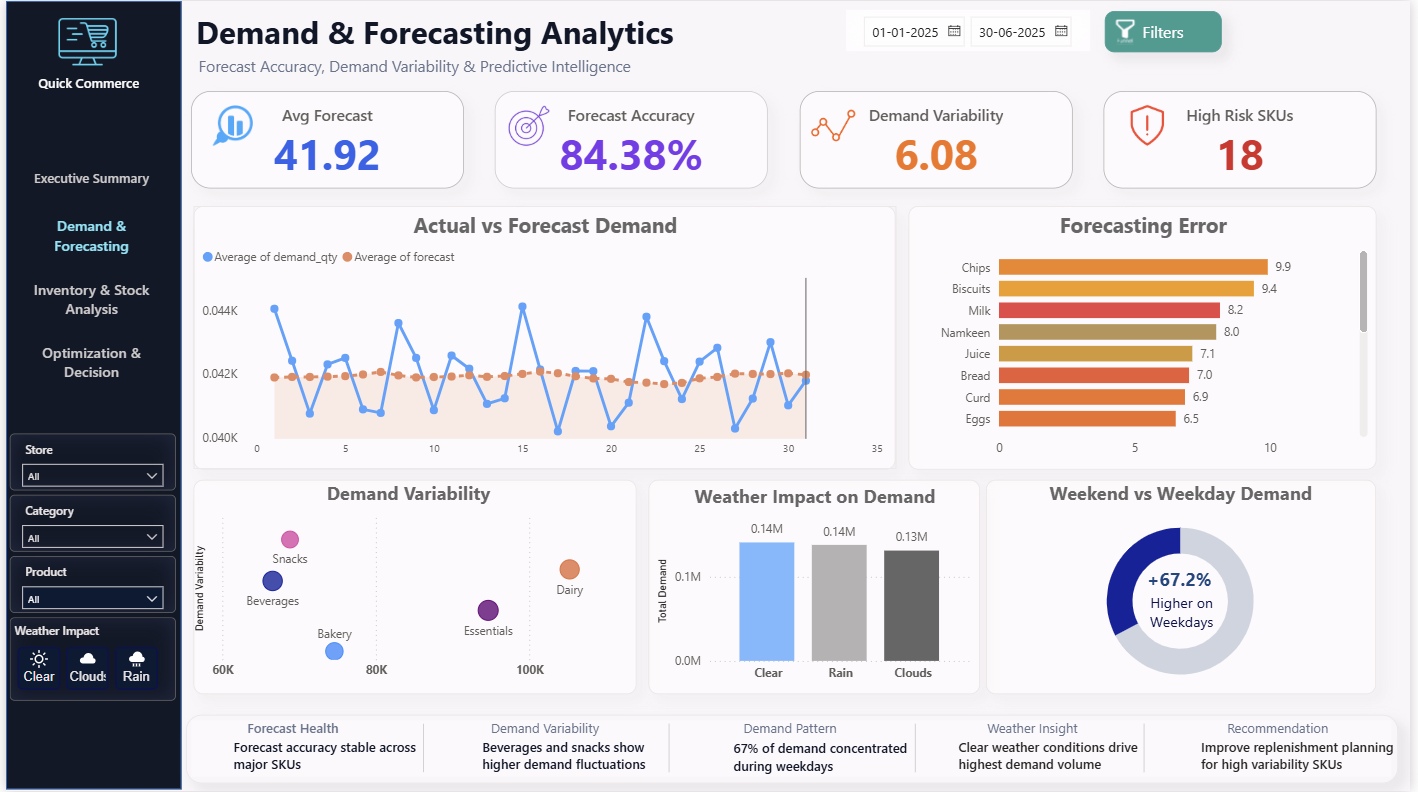

This screenshot's page, from the dashboard's own definition file:
{"tool":"powerbi","page":{"name":"Demand & forecasting Analysis","canvas":[1440,810],"ordinal":1},"visuals":[{"type":"shape","box":[0,0,180,808.6],"z":0},{"type":"textbox","box":[190,5.7,624.3,72.9],"z":1000,"group":"g1"},{"type":"cardVisual","fields":{"Data":["DAX Measures.Avg Forecast"]},"box":[190,92.9,280,100],"z":1000},{"type":"textbox","box":[192.9,50,532.9,33],"z":2000,"group":"g1"},{"type":"lineChart","title":"Actual vs Forecast Demand","fields":{"Y":["Avg(inventory_data.demand_qty)","Avg(inventory_data.forecast)"],"Category":["inventory_data.date.Variation.Date Hierarchy.Day"]},"box":[192.9,210,720,270],"z":2000},{"type":"clusteredBarChart","title":"Forecasting Error","fields":{"Y":["inventory_data.Forecast Error"],"Category":["inventory_data.product_name"]},"box":[925.7,210,480,270],"z":3000},{"type":"scatterChart","title":"Demand Variability","fields":{"X":["Sum(inventory_data.avg_demand)"],"Y":["Sum(inventory_data.std_demand)"],"Size":["Sum(inventory_data.gap)"],"Series":["inventory_data.category"]},"box":[192.9,491.4,454.3,220],"z":4000},{"type":"clusteredColumnChart","title":"Weather Impact on Demand ","fields":{"Y":["Sum(inventory_data.demand_qty)"],"Category":["inventory_data.weather_type"]},"box":[658.6,491.4,340,220],"z":5000},{"type":"cardVisual","fields":{"Data":["DAX Measures.Forecast Accuracy"]},"box":[501.9,92.9,280,100],"z":6000},{"type":"cardVisual","fields":{"Data":["DAX Measures.Avg Variability"]},"box":[813.8,92.9,280,100],"z":7000},{"type":"cardVisual","fields":{"Data":["DAX Measures.High Risk SKUs"]},"box":[1125.7,92.9,280,100],"z":8000},{"type":"donutChart","title":"Weekend vs Weekday Demand","fields":{"Y":["inventory_data.Weekday Demand","inventory_data.Weekend Demand"]},"box":[1005.7,491.4,400,220],"z":9000},{"type":"slicer","fields":{"Values":["inventory_data.date"]},"box":[861.7,9.5,250,42.2],"z":10000},{"type":"actionButton","box":[1127.2,10.9,119.8,42.2],"z":11000},{"type":"group","id":"g1","title":"Group 1","box":[190,5.7,624.3,77.3],"z":12000},{"type":"textbox","box":[1161.4,575.7,88.6,35.7],"z":13000},{"type":"textbox","box":[1162.1,601.6,88.6,57.1],"z":14000},{"type":"shape","box":[184.3,731.4,1242.9,70],"z":15000},{"type":"shape","box":[674,741.4,11.4,50],"z":16000},{"type":"shape","box":[926.6,741.4,11.4,50],"z":17000},{"type":"shape","box":[1161.4,741.4,11.4,50],"z":18000},{"type":"textbox","box":[242.9,731.4,130,30],"z":19000},{"type":"textbox","box":[492.3,731.4,155.7,30],"z":20000},{"type":"textbox","box":[750.9,731.4,160,30],"z":21000},{"type":"textbox","box":[1000.7,731.4,147.1,30],"z":22000},{"type":"textbox","box":[228.6,751.4,211.4,57.1],"z":23000},{"type":"textbox","box":[482.9,751.4,181.4,52.9],"z":24000},{"type":"textbox","box":[741.4,752.9,201.4,57.1],"z":25000},{"type":"textbox","box":[971.4,751.4,202.9,57.1],"z":26000},{"type":"textbox","box":[1247.1,731.4,125.7,30],"z":27000},{"type":"textbox","box":[1220,751.4,220,57.1],"z":28000},{"type":"shape","box":[421.4,741.4,12.9,50],"z":29000},{"type":"actionButton","box":[13.5,160.4,150,40],"z":30000},{"type":"actionButton","box":[13.5,212.8,150,54.3],"z":31000},{"type":"actionButton","box":[13.5,279.5,150,51.4],"z":32000},{"type":"actionButton","box":[12.9,343.3,150,52.9],"z":33000},{"type":"actionButton","box":[51.4,14.3,64.3,54.3],"z":34000},{"type":"actionButton","box":[27.1,68.6,115.7,30],"z":35000},{"type":"slicer","fields":{"Values":["inventory_data.category"]},"box":[4,506.4,170,58.4],"z":36000},{"type":"slicer","fields":{"Values":["inventory_data.store_id"]},"box":[4,443.8,170,58.4],"z":37000},{"type":"slicer","fields":{"Values":["inventory_data.product_name"]},"box":[4,568.9,170,58.4],"z":38000},{"type":"ChicletSlicer1448559807354","title":"Weather Impact","fields":{"Category":["inventory_data.weather_type"],"Image":["inventory_data.Weather SVG"]},"box":[4,631.4,170,85.7],"z":39000},{"type":"image","box":[210,105.7,45,45],"z":40000},{"type":"image","box":[514.3,105.7,45,45],"z":41000},{"type":"image","box":[825.7,105.7,45.7,44.3],"z":42000},{"type":"image","box":[1148.6,105.7,45,45],"z":43000}]}

Visuals, with their boxes on the page's 1440x810 design canvas (x1, y1, x2, y2). These are canvas units, not pixel positions in the 1418x792 screenshot, which may show the page scaled, cropped or inside an application window:
shape: l=0, t=0, r=180, b=809
textbox: l=190, t=6, r=814, b=79
cardVisual - DAX Measures.Avg Forecast: l=190, t=93, r=470, b=193
textbox: l=193, t=50, r=726, b=83
"Actual vs Forecast Demand" lineChart: l=193, t=210, r=913, b=480
"Forecasting Error" clusteredBarChart: l=926, t=210, r=1406, b=480
"Demand Variability" scatterChart: l=193, t=491, r=647, b=711
"Weather Impact on Demand " clusteredColumnChart: l=659, t=491, r=999, b=711
cardVisual - DAX Measures.Forecast Accuracy: l=502, t=93, r=782, b=193
cardVisual - DAX Measures.Avg Variability: l=814, t=93, r=1094, b=193
cardVisual - DAX Measures.High Risk SKUs: l=1126, t=93, r=1406, b=193
"Weekend vs Weekday Demand" donutChart: l=1006, t=491, r=1406, b=711
slicer - inventory_data.date: l=862, t=10, r=1112, b=52
actionButton: l=1127, t=11, r=1247, b=53
"Group 1" group: l=190, t=6, r=814, b=83
textbox: l=1161, t=576, r=1250, b=611
textbox: l=1162, t=602, r=1251, b=659
shape: l=184, t=731, r=1427, b=801
shape: l=674, t=741, r=685, b=791
shape: l=927, t=741, r=938, b=791
shape: l=1161, t=741, r=1173, b=791
textbox: l=243, t=731, r=373, b=761
textbox: l=492, t=731, r=648, b=761
textbox: l=751, t=731, r=911, b=761
textbox: l=1001, t=731, r=1148, b=761
textbox: l=229, t=751, r=440, b=808
textbox: l=483, t=751, r=664, b=804
textbox: l=741, t=753, r=943, b=810
textbox: l=971, t=751, r=1174, b=808
textbox: l=1247, t=731, r=1373, b=761
textbox: l=1220, t=751, r=1440, b=808
shape: l=421, t=741, r=434, b=791
actionButton: l=14, t=160, r=164, b=200
actionButton: l=14, t=213, r=164, b=267
actionButton: l=14, t=280, r=164, b=331
actionButton: l=13, t=343, r=163, b=396
actionButton: l=51, t=14, r=116, b=69
actionButton: l=27, t=69, r=143, b=99
slicer - inventory_data.category: l=4, t=506, r=174, b=565
slicer - inventory_data.store_id: l=4, t=444, r=174, b=502
slicer - inventory_data.product_name: l=4, t=569, r=174, b=627
"Weather Impact" ChicletSlicer1448559807354: l=4, t=631, r=174, b=717
image: l=210, t=106, r=255, b=151
image: l=514, t=106, r=559, b=151
image: l=826, t=106, r=871, b=150
image: l=1149, t=106, r=1194, b=151
